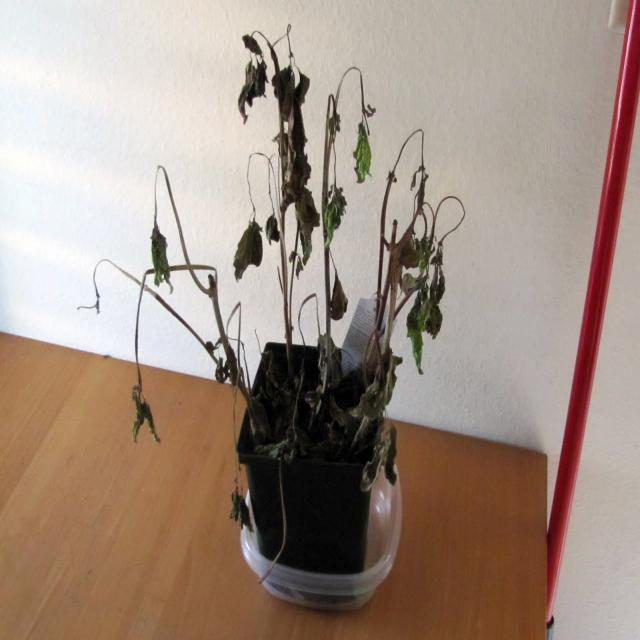unhealthy: (80, 18, 458, 441)
